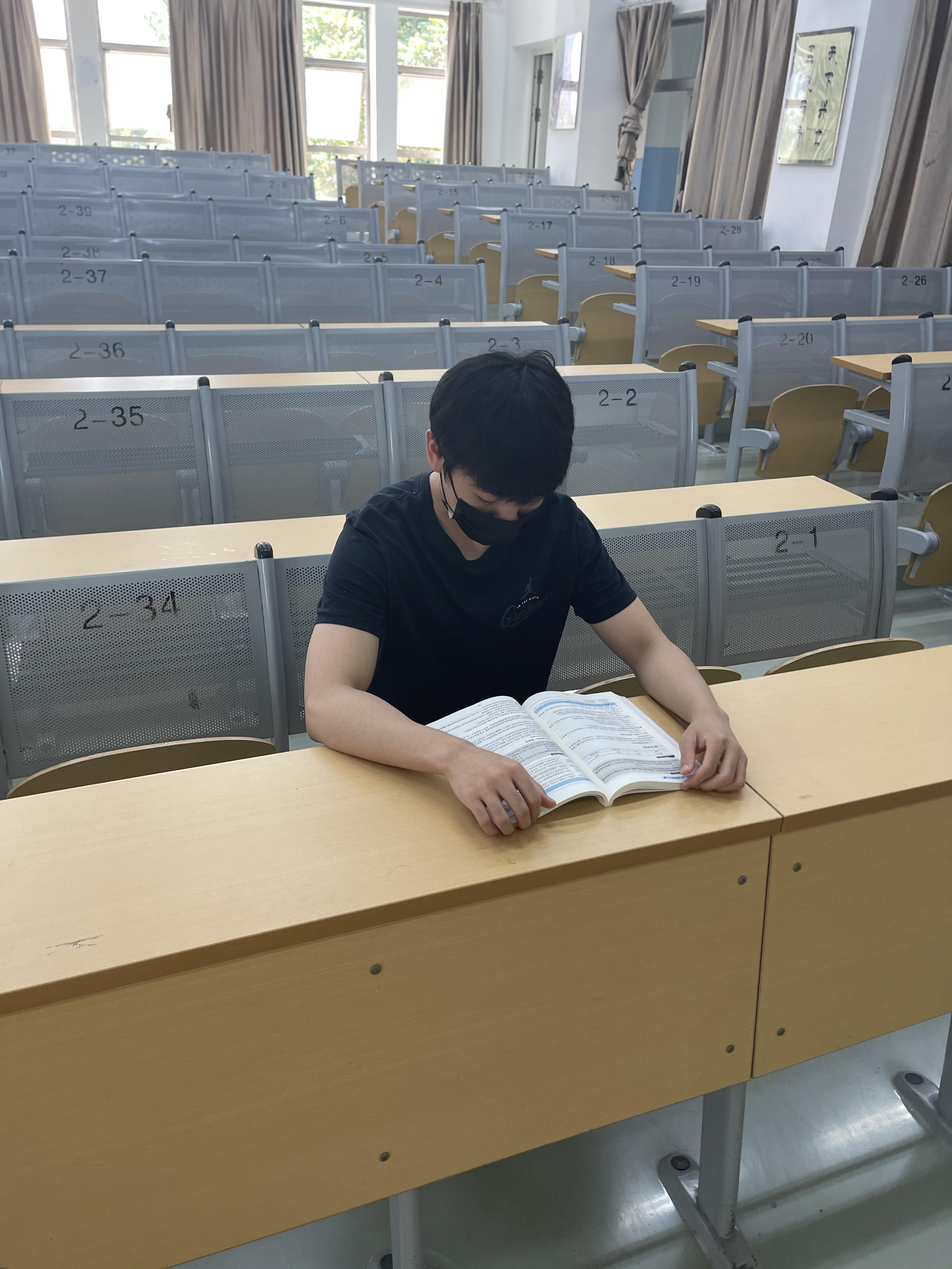study: (302, 352, 745, 833)
